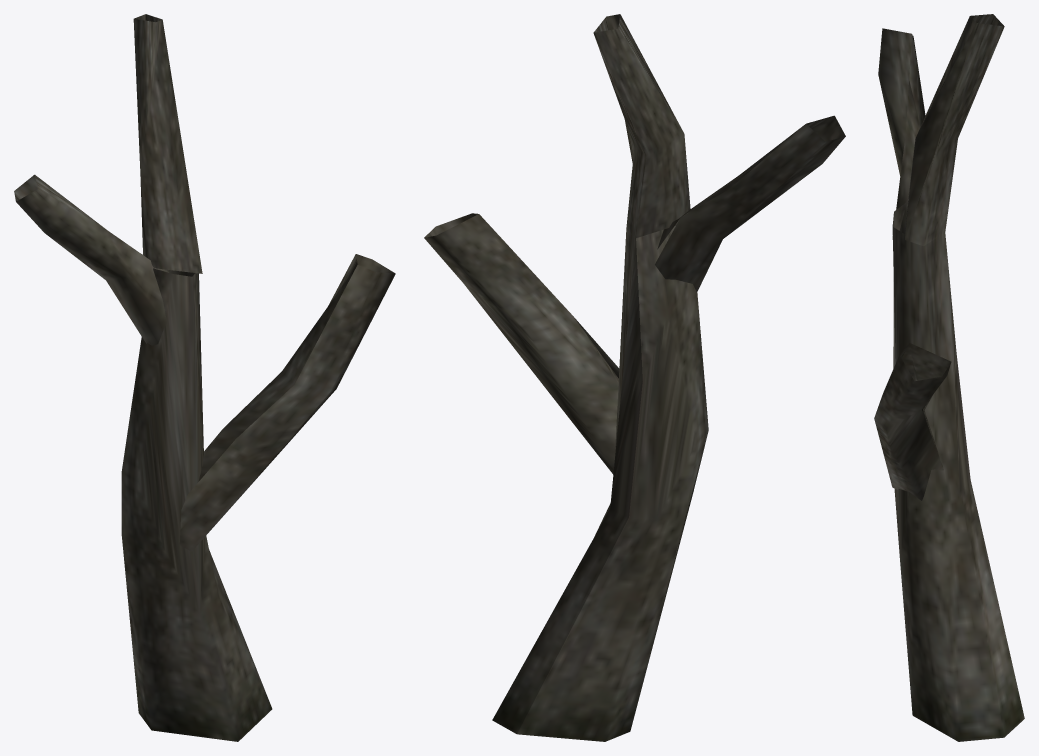
File: shugan01.obj
The picture shows the model from 3 angles, left to right: view 1: azimuth 30°, elevation 25°; view 2: azimuth 150°, elevation 25°; view 3: azimuth 270°, elevation 25°; orthographic projection. The views are drawn at different scales.
Parts seen in each view (by area): view 1: shugan01; view 2: shugan01; view 3: shugan01.
Boxes of the visible parts, <box> form: shugan01: <box>14,14,395,741</box>; shugan01: <box>424,14,845,741</box>; shugan01: <box>874,14,1024,741</box>.
Bounding box in the file's own units: 64.09 × 111 × 22.46.
